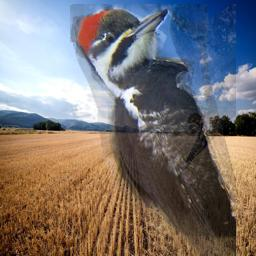Woodpecker: (70, 4, 236, 256)
